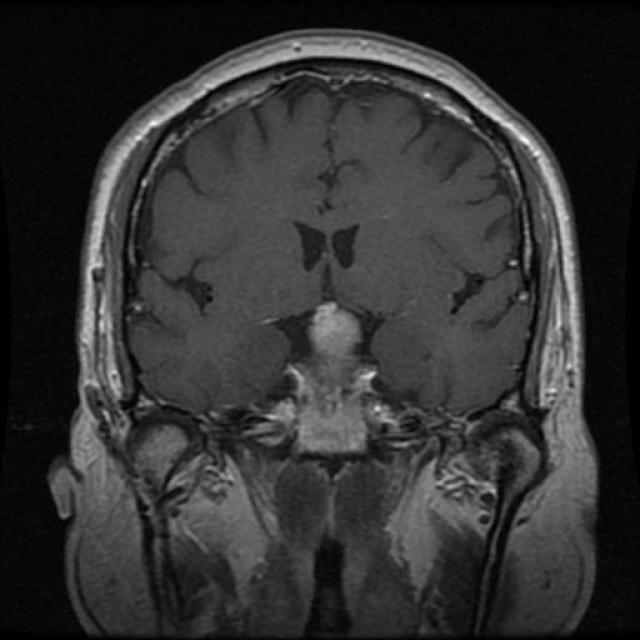pituitary: (282, 290, 387, 410)
